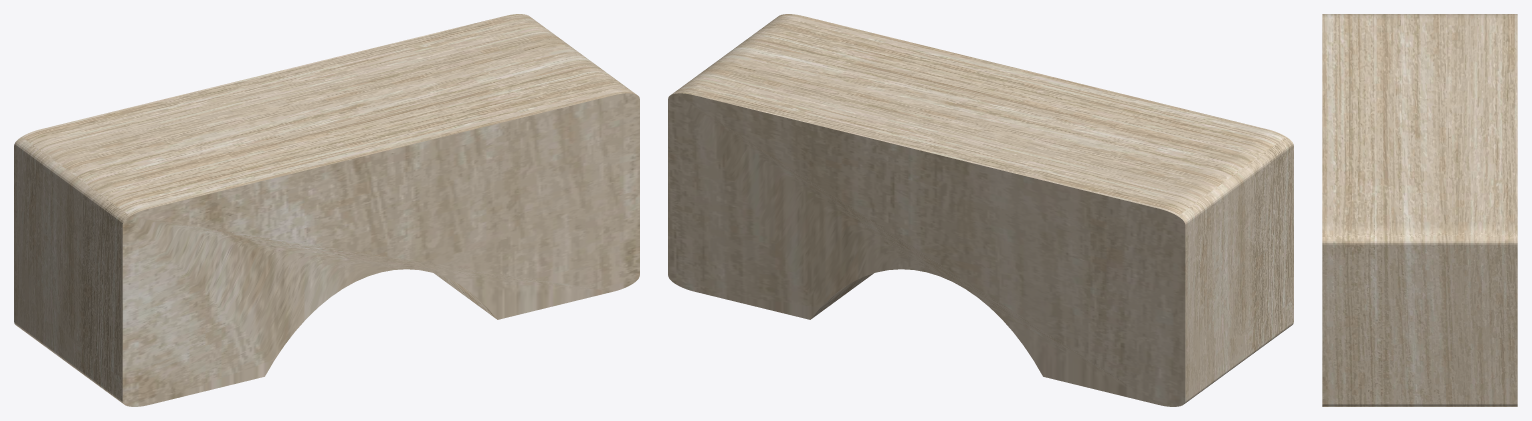
Rendered from modeling00.glb.
The picture shows the model from 3 angles, left to right: view 1: azimuth 30°, elevation 25°; view 2: azimuth 150°, elevation 25°; view 3: azimuth 270°, elevation 25°; orthographic projection. The views are drawn at different scales.
Visible parts, largest first — view 1: 큐브.001; view 2: 큐브.001; view 3: 큐브.001.
Part boxes in pixels (x1,y1,x2,y2): 큐브.001: (14, 14, 639, 406); 큐브.001: (668, 14, 1293, 406); 큐브.001: (1322, 14, 1517, 406).
Bounding box in the file's own units: 3.37 × 1.22 × 1.22.
1 material, 1 textured.
